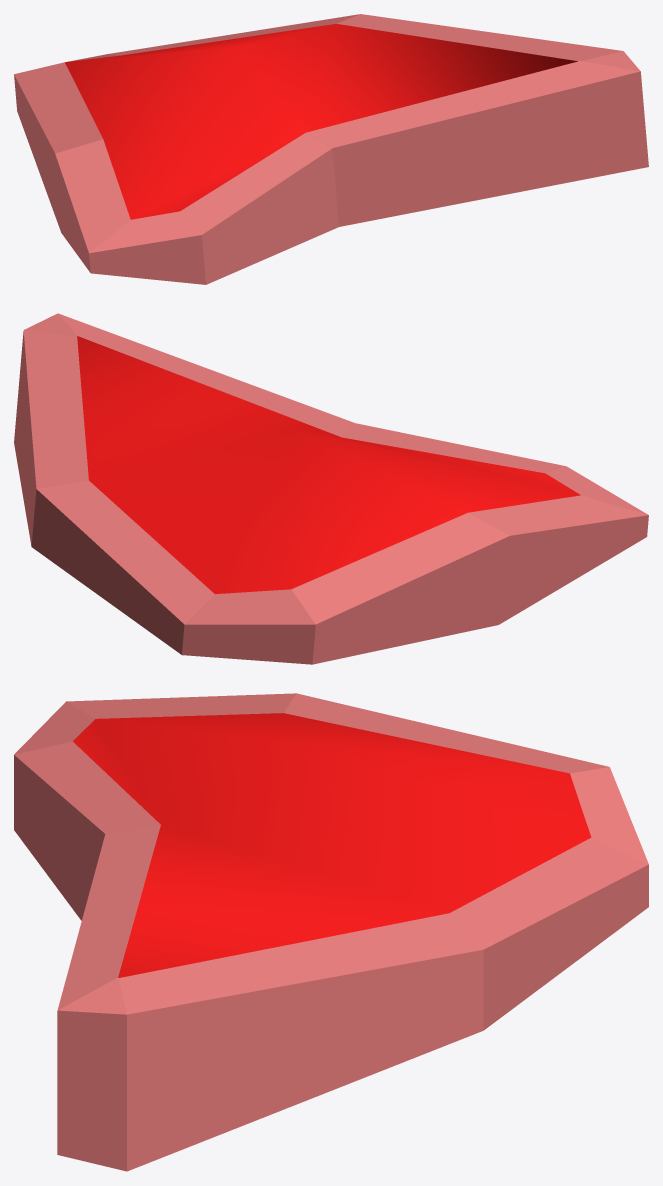
File: Meat.FBX
3 views of the same model, one above another, from view 1: azimuth 30°, elevation 25°; view 2: azimuth 150°, elevation 25°; view 3: azimuth 270°, elevation 25° (orthographic). The views are drawn at different scales.
Visible parts, largest first — view 1: Line001, Object; view 2: Line001, Object; view 3: Line001, Object.
Boxes of the visible parts, x1,y1,x2,y2 form: Line001: (14,14,648,284); Object: (65,23,577,219); Line001: (14,313,648,664); Object: (77,336,580,594); Line001: (14,693,648,1171); Object: (73,713,591,977).
Bounding box in the file's own units: 125 × 33.91 × 85.38.
